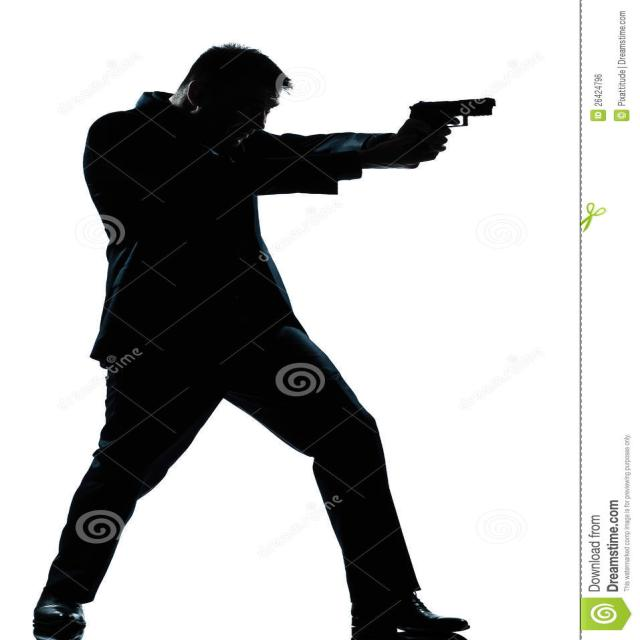handgun: (407, 97, 500, 146)
